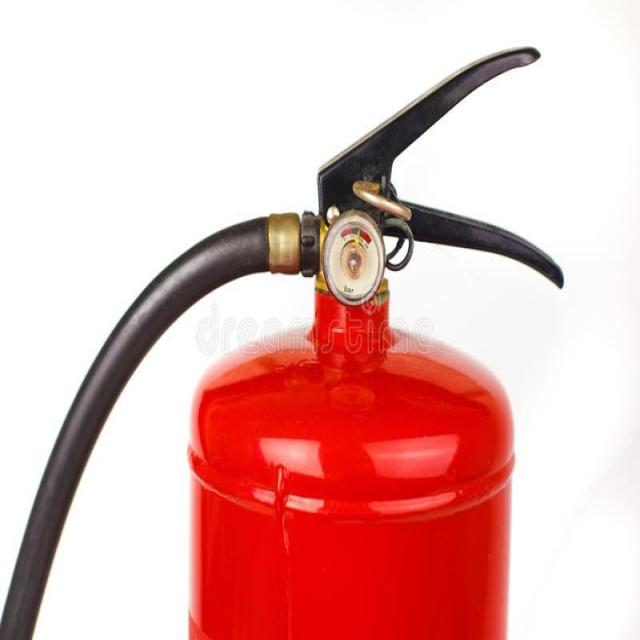fire_extinguisher: (0, 40, 568, 639)
